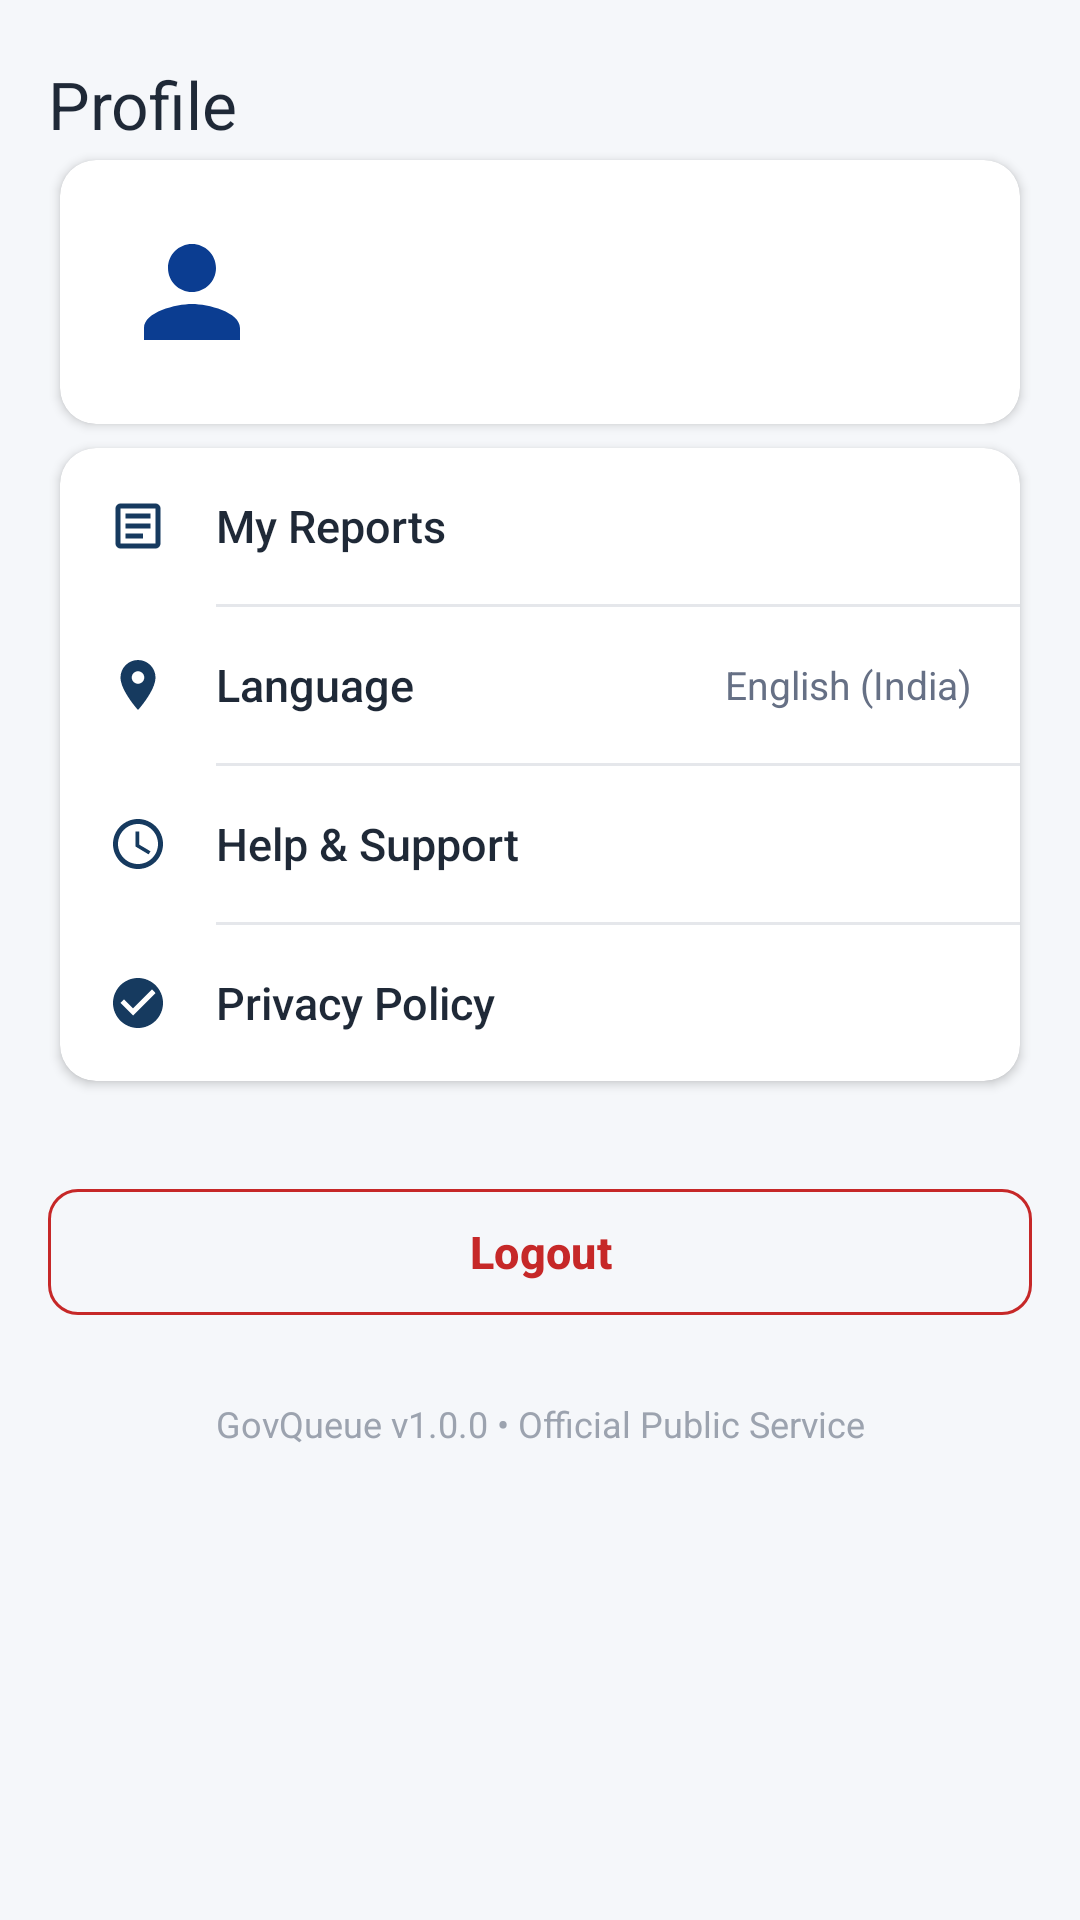

Icons on this 1080px×1920px Android screen, each with its box as (x1, y1, x2, y2):
User Avatar: (144, 244, 240, 340)
